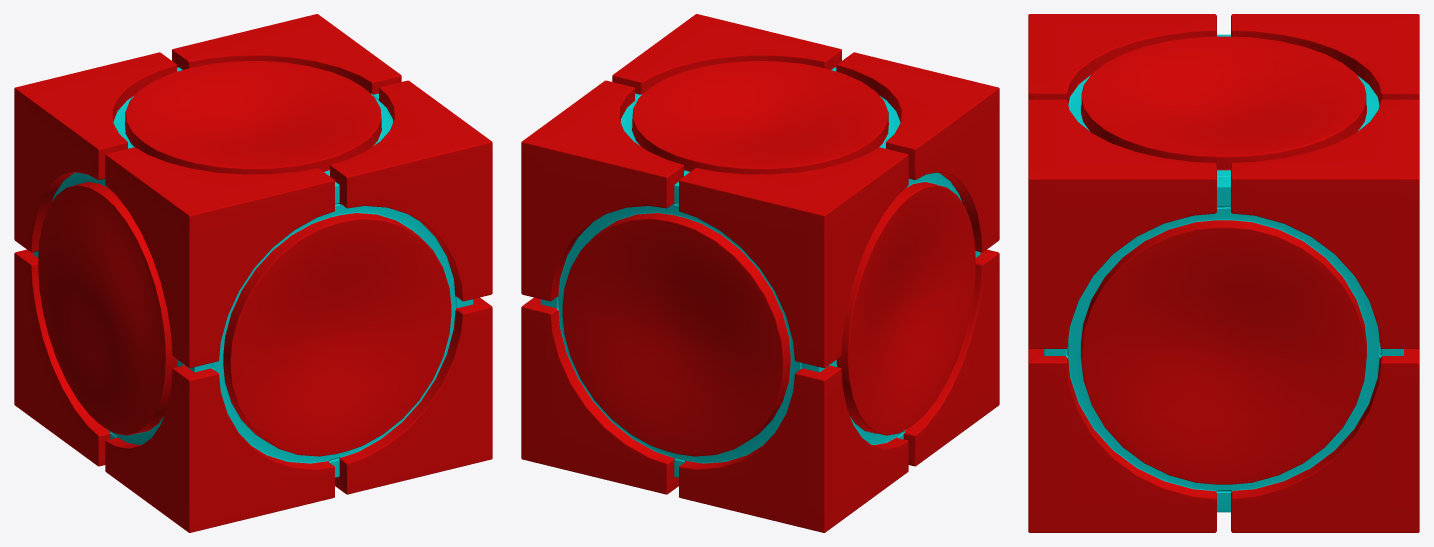
File: Crate.fbx
3 renders of one model, left to right at view 1: azimuth 30°, elevation 25°; view 2: azimuth 150°, elevation 25°; view 3: azimuth 270°, elevation 25°, orthographic. The views are drawn at different scales.
Parts seen in each view (by area): view 1: Crate; view 2: Crate; view 3: Crate.
Boxes of the visible parts, box(x1,y1,x2,y2) form: Crate: box(14, 14, 492, 532); Crate: box(521, 14, 999, 532); Crate: box(1028, 14, 1419, 532).
Bounding box in the file's own units: 1 × 1 × 1.
